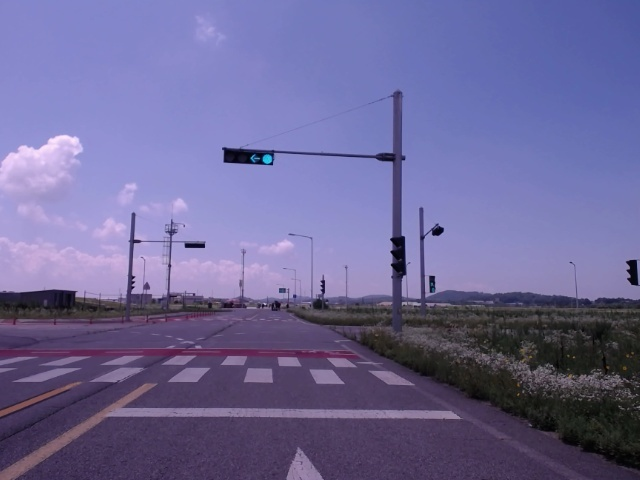all_green_4: (226, 148, 275, 165)
